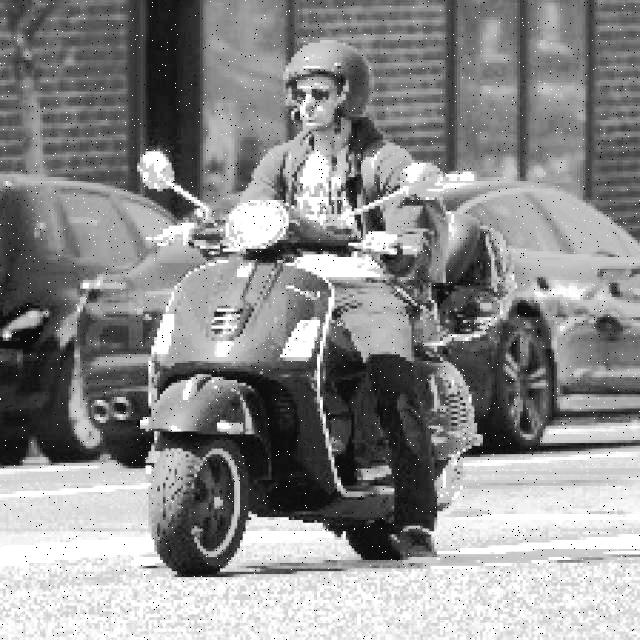Bike: (136, 206, 380, 592)
